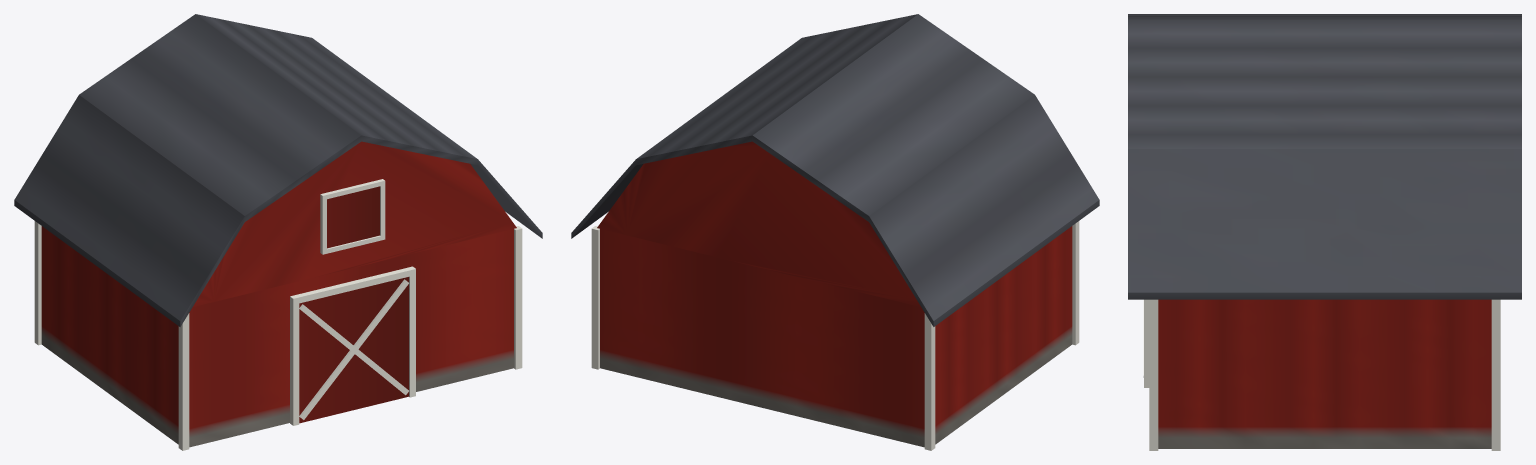
The model's file is Barn.glb.
3 views of the same model, side by side, from view 1: azimuth 30°, elevation 25°; view 2: azimuth 150°, elevation 25°; view 3: azimuth 270°, elevation 25° (orthographic). The views are drawn at different scales.
Parts seen in each view (by area): view 1: BarnRoof, BarnWalls, Gables, BarnDoors, BarnTrim; view 2: BarnRoof, BarnWalls, Gables, BarnTrim; view 3: BarnRoof, BarnWalls, BarnTrim.
Part boxes in pixels (x1=…): BarnRoof: x1=14, y1=14, x2=542, y2=326; BarnWalls: x1=41, y1=226, x2=513, y2=447; Gables: x1=193, y1=141, x2=516, y2=306; BarnDoors: x1=299, y1=186, x2=408, y2=423; BarnTrim: x1=34, y1=179, x2=522, y2=450; BarnRoof: x1=571, y1=14, x2=1099, y2=326; BarnWalls: x1=600, y1=226, x2=1072, y2=447; Gables: x1=597, y1=141, x2=920, y2=306; BarnTrim: x1=591, y1=221, x2=1079, y2=450; BarnRoof: x1=1128, y1=14, x2=1521, y2=299; BarnWalls: x1=1158, y1=299, x2=1491, y2=448; BarnTrim: x1=1143, y1=299, x2=1500, y2=450.
Bounding box in the file's own units: 8.7 × 6.44 × 6.9.
